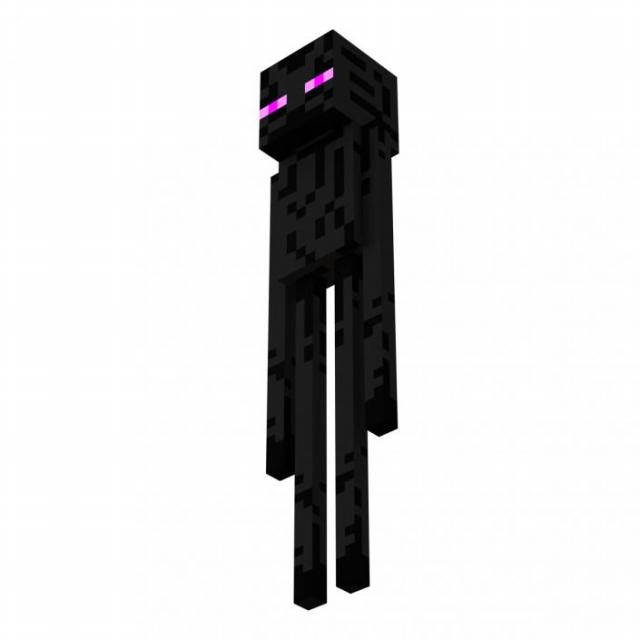Enderman: (254, 26, 412, 615)
